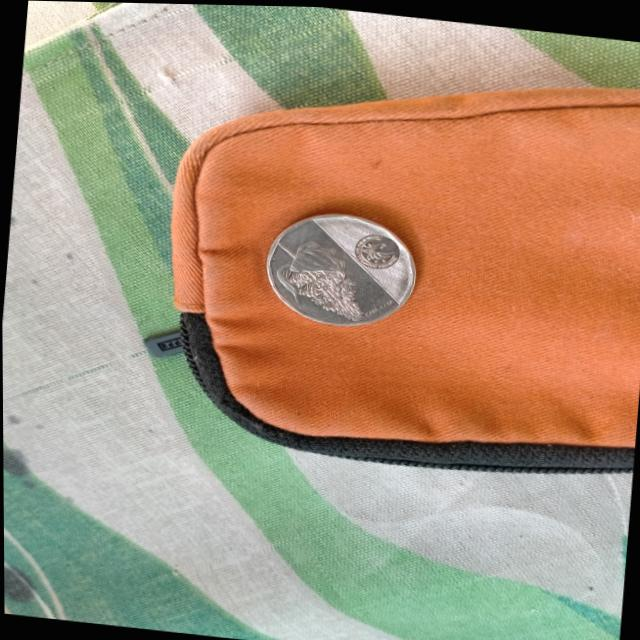10_New_Back: (249, 226, 374, 328)
